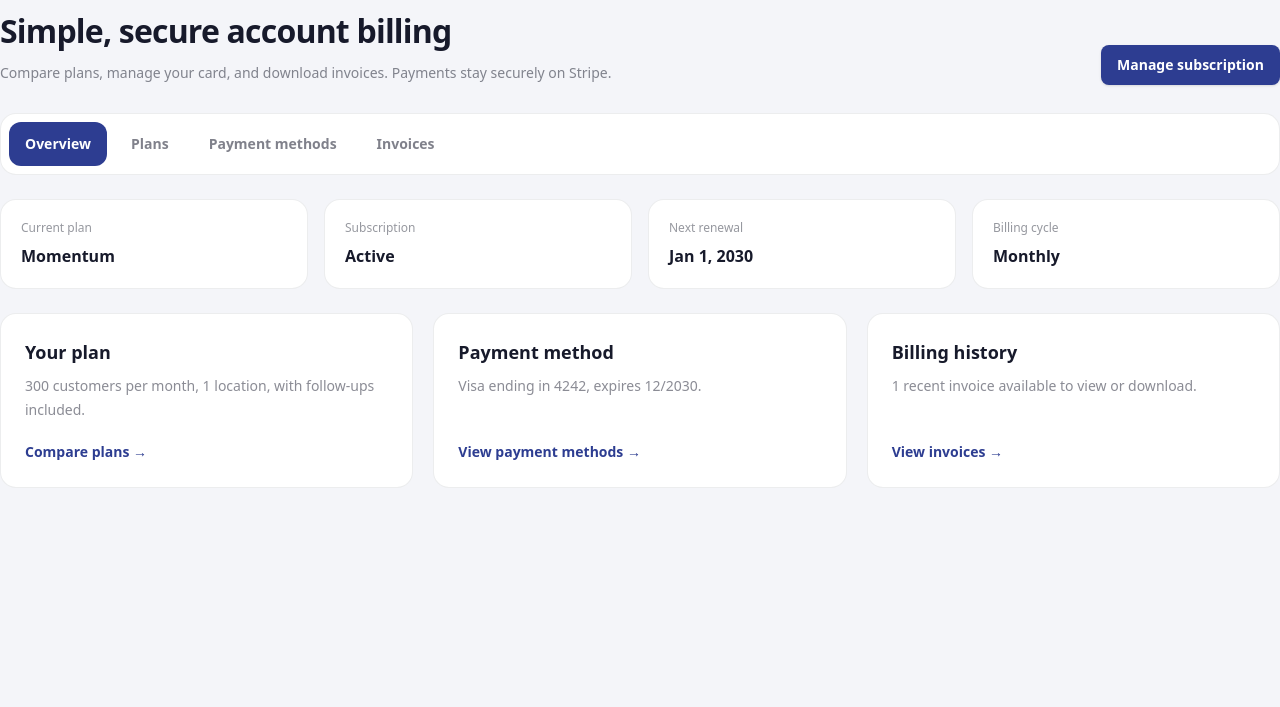
Test: customer billing › shows real billing sections, masked cards, invoices, and plan comparison
This screenshot has width=1280, height=707.
Check: the heading "Simple, secure account billing" is shown, box [0,9,452,52]
Check: the text "Visa ending in 4242, expires 12/2030." is shown, box [458,376,702,395]
Step 1. Click the button "Payment methods" → point(273, 144), box [193,122,353,166]
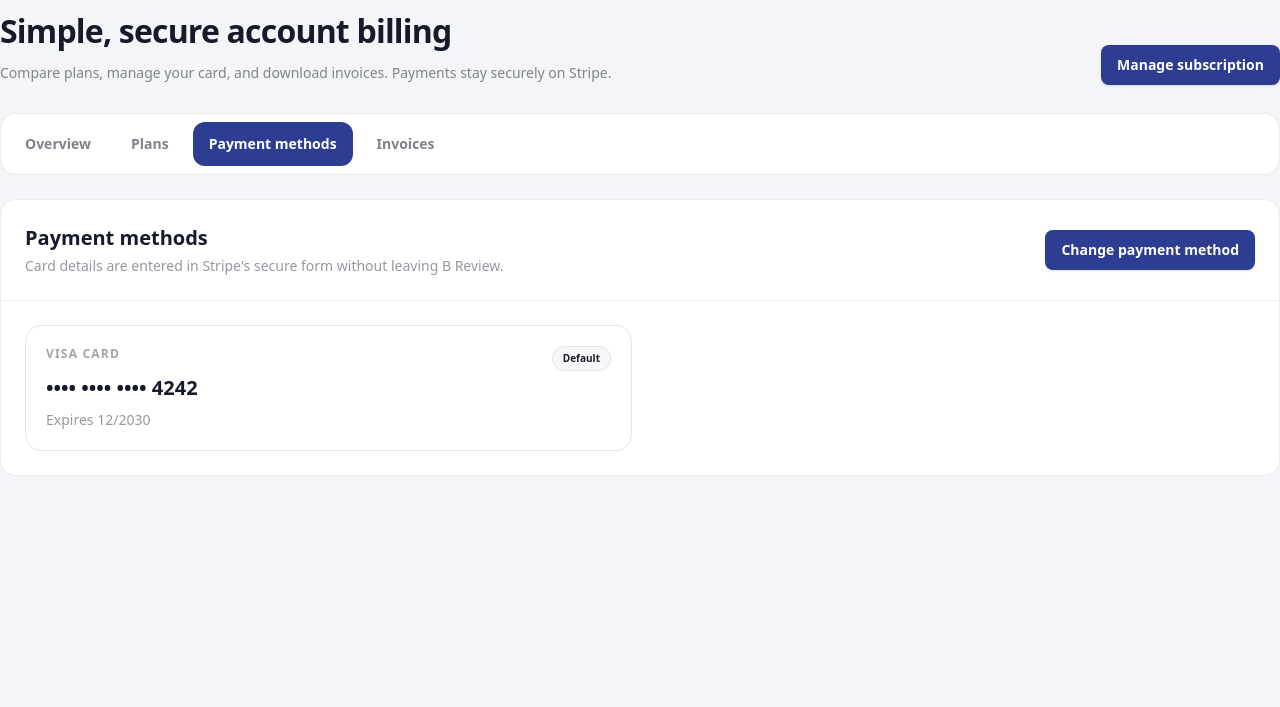
Check: the text "•••• •••• •••• 4242" is shown, box [46,374,198,402]
Check: the button "Change payment method" is shown, box [1045,230,1255,270]
Step 2. Click the button "Invoices" → point(406, 144), box [361,122,451,166]
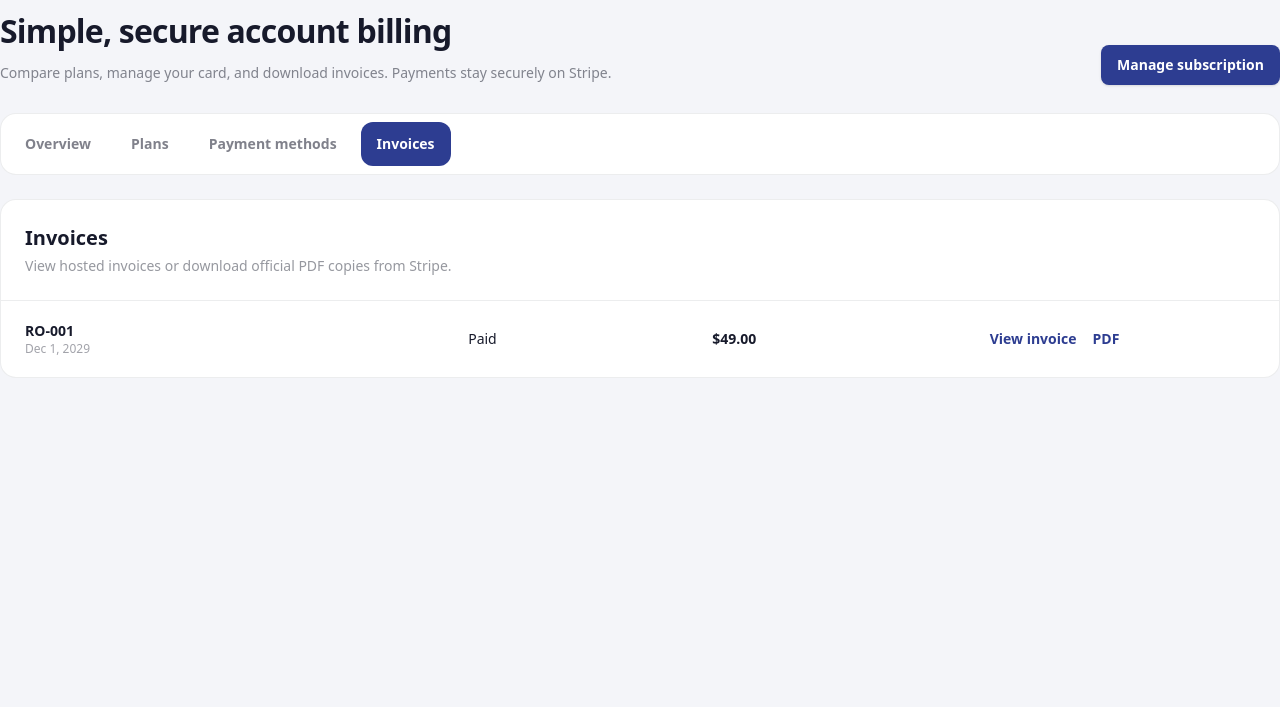
Check: the text "RO-001" is shown, box [25,321,74,340]
Step 3. Click the button "Plans" → point(150, 144), box [115,122,185,166]
(page scrolled)
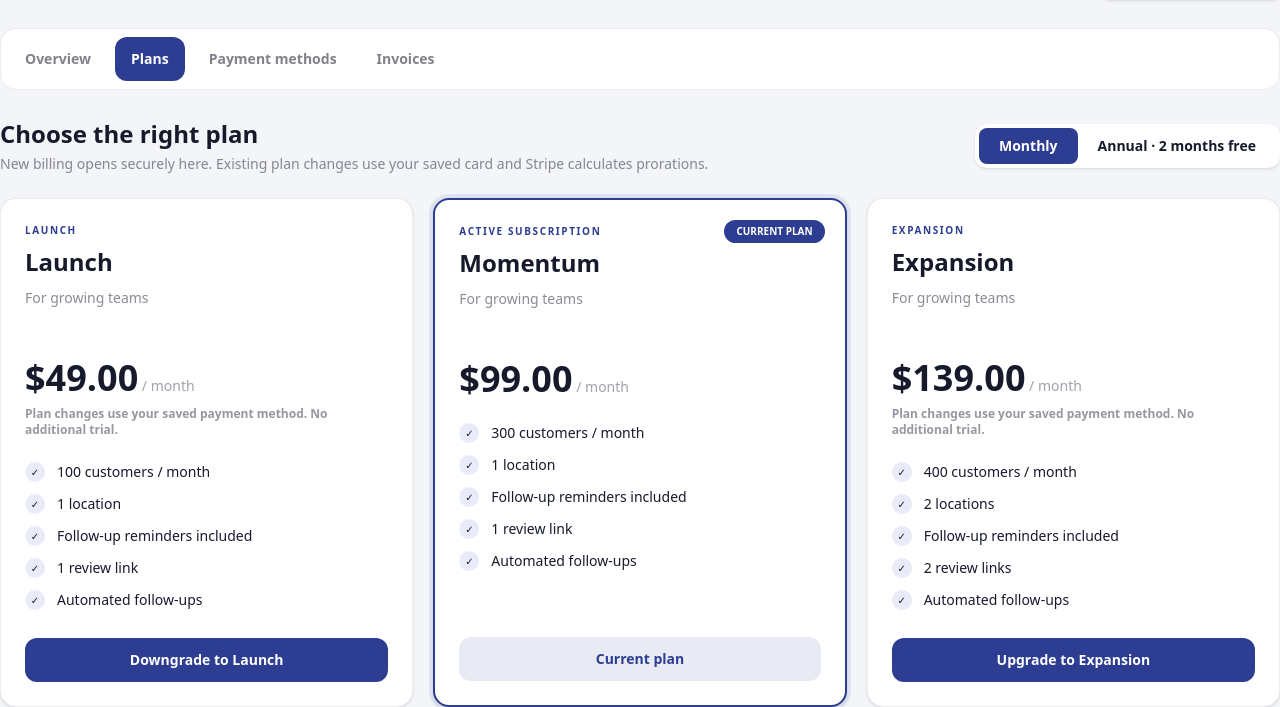
Check: the text "For growing teams" is shown 3 times, box [25,288,149,307]; [459,289,583,308]; [892,288,1015,307]
Check: the button "Current plan" is disabled, box [459,637,821,681]
Check: the button "Downgrade to Launch" is enabled, box [25,638,388,682]
